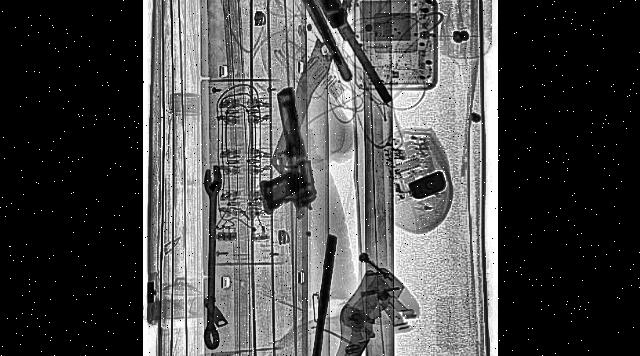Gun: (246, 79, 320, 245)
Wrench: (204, 168, 222, 352)
